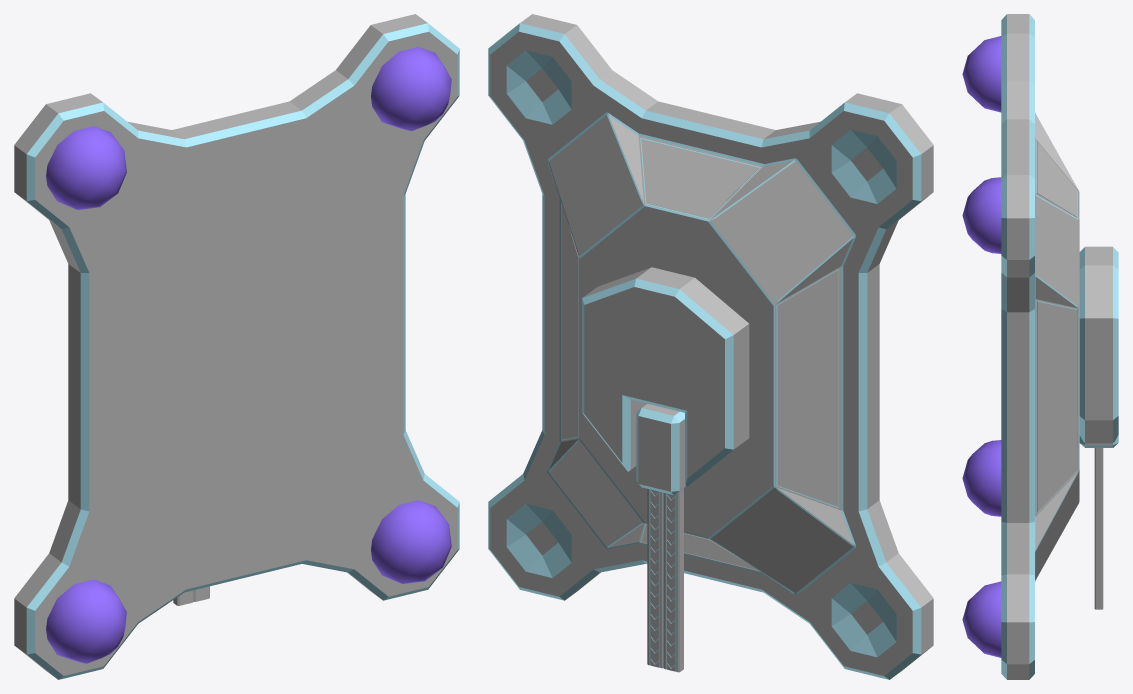
File: Assemble_V3_Blender_FBX.fbx
3 renders of one model, left to right at view 1: azimuth 30°, elevation 25°; view 2: azimuth 150°, elevation 25°; view 3: azimuth 270°, elevation 25°, orthographic. The views are drawn at different scales.
Visible parts, largest first — view 1: Mirror12.001; view 2: Mirror12.001, Chamfer2.001, Chamfer1.001; view 3: Mirror12.001, Chamfer2.001, Chamfer1.001.
Boxes of the visible parts, bbox=[...] form: Mirror12.001: bbox=[14, 14, 459, 679]; Mirror12.001: bbox=[488, 14, 933, 679]; Chamfer2.001: bbox=[582, 267, 749, 486]; Chamfer1.001: bbox=[636, 404, 685, 672]; Mirror12.001: bbox=[962, 14, 1079, 679]; Chamfer2.001: bbox=[1079, 246, 1118, 443]; Chamfer1.001: bbox=[1079, 435, 1118, 609].
Bounding box in the file's own units: 400 × 503 × 140.
